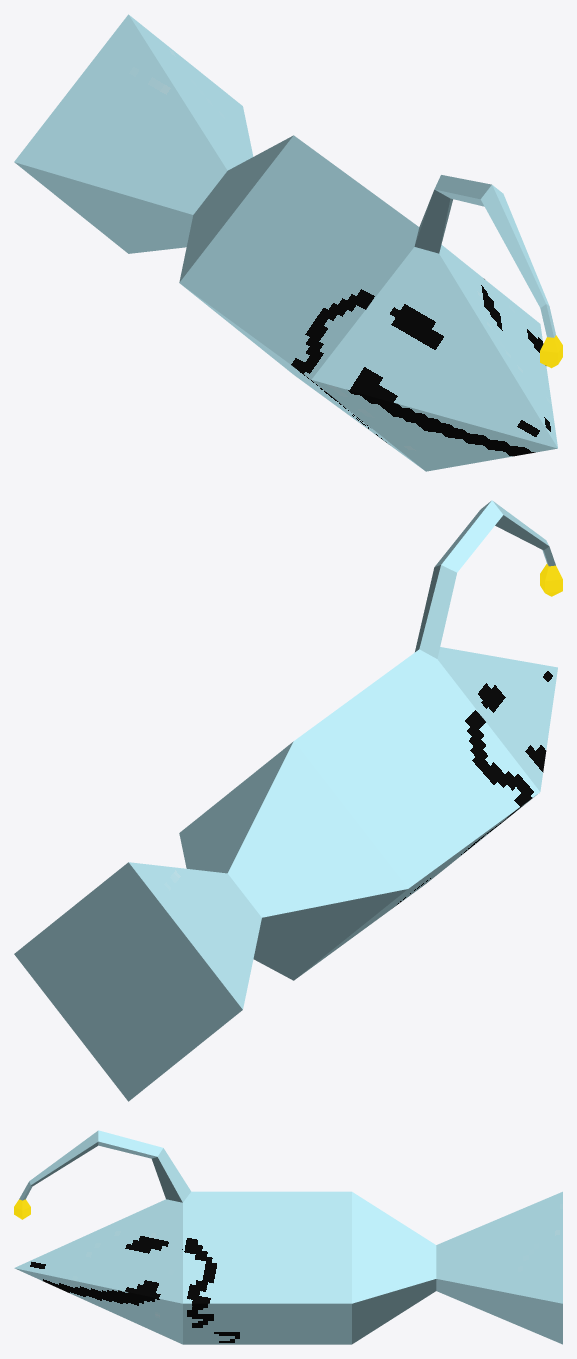
Rendered from fish.glb.
The picture shows the model from 3 angles, top to bottom: view 1: azimuth 30°, elevation 25°; view 2: azimuth 150°, elevation 25°; view 3: azimuth 270°, elevation 25°; orthographic projection. The views are drawn at different scales.
Visible parts, largest first — view 1: Vert.002; view 2: Vert.002; view 3: Vert.002.
Boxes of the visible parts, left/top/right/bottom form: Vert.002: left=14, top=14, right=562, bottom=471; Vert.002: left=14, top=500, right=562, bottom=1101; Vert.002: left=14, top=1130, right=562, bottom=1344.
Bounding box in the file's own units: 0.2 × 0.28 × 0.65.
Materials: 2 (1 with a texture image).
